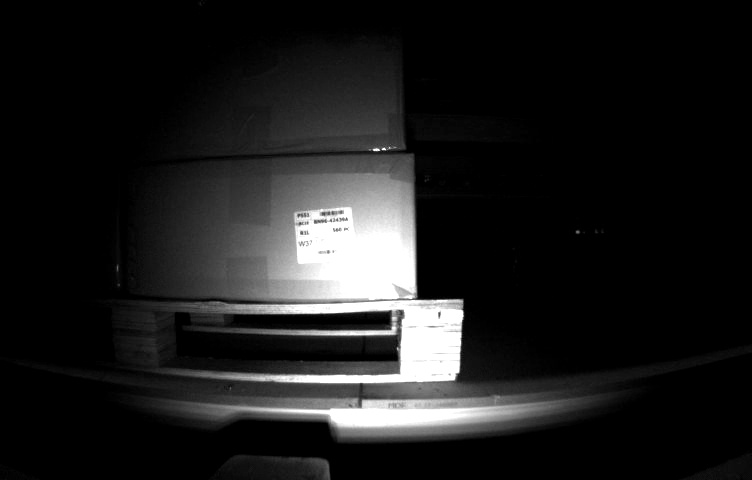True Barcode: (286, 207, 364, 267)
